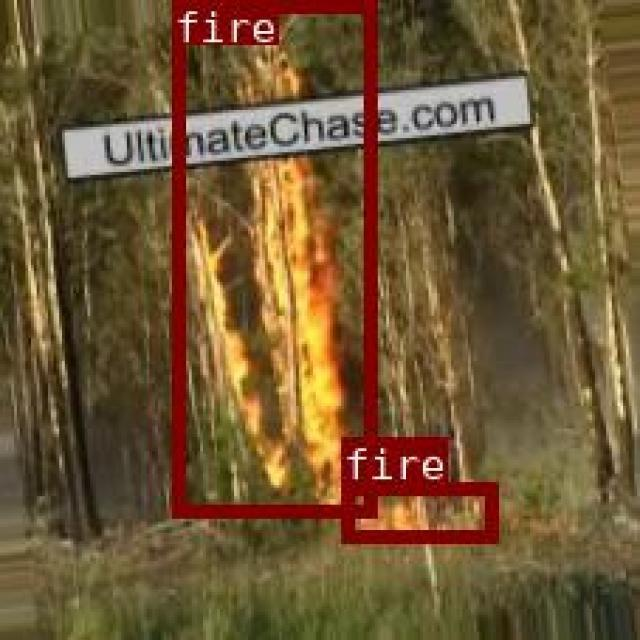fire: (169, 0, 372, 513), (340, 482, 496, 539)
